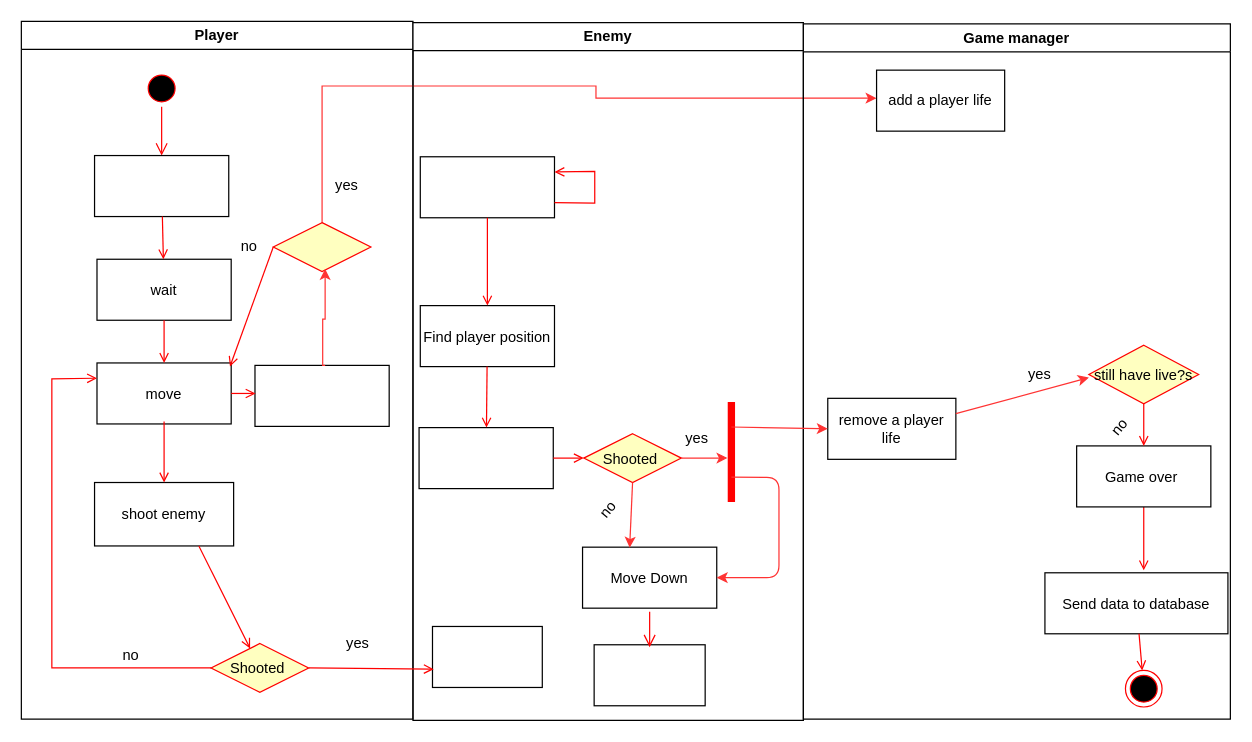
Image size: 1252x742. Some labels were removed from this diagram. Here are the shapes that lost their labels. From the top down, the centre of each, then its label:
pixel 161 185: Enter User Name
pixel 486 187: appear
pixel 321 246: catched
pixel 321 395: catch pipeline
pixel 485 457: shoot player
pixel 486 656: Dy
pixel 649 675: disappear
